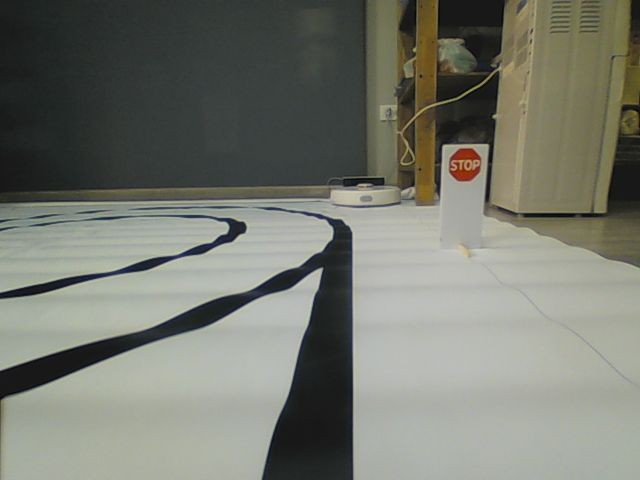Stop: (446, 147, 482, 182)
